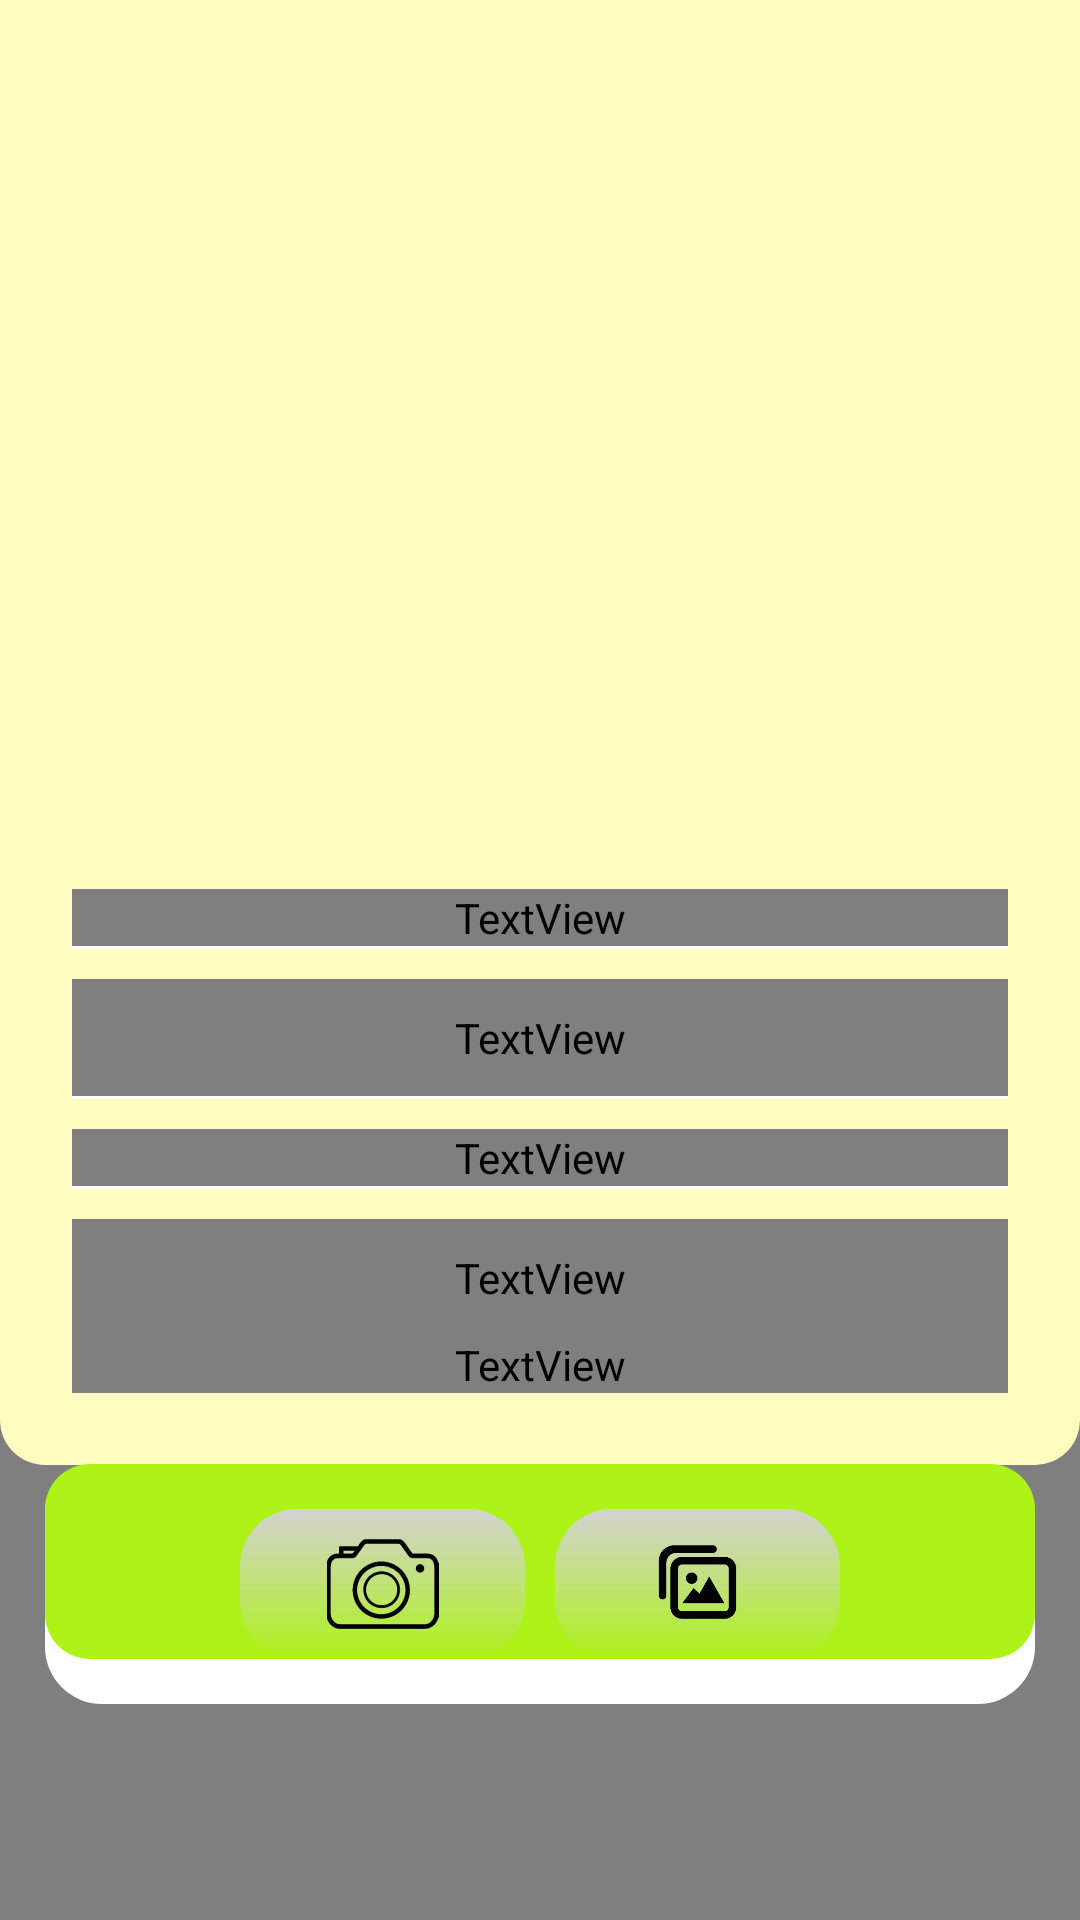

Icons on this 1080*1920 Android screen, each with the point to tap as [x,y]:
galery: [697,1574]
kamera: [382,1574]
